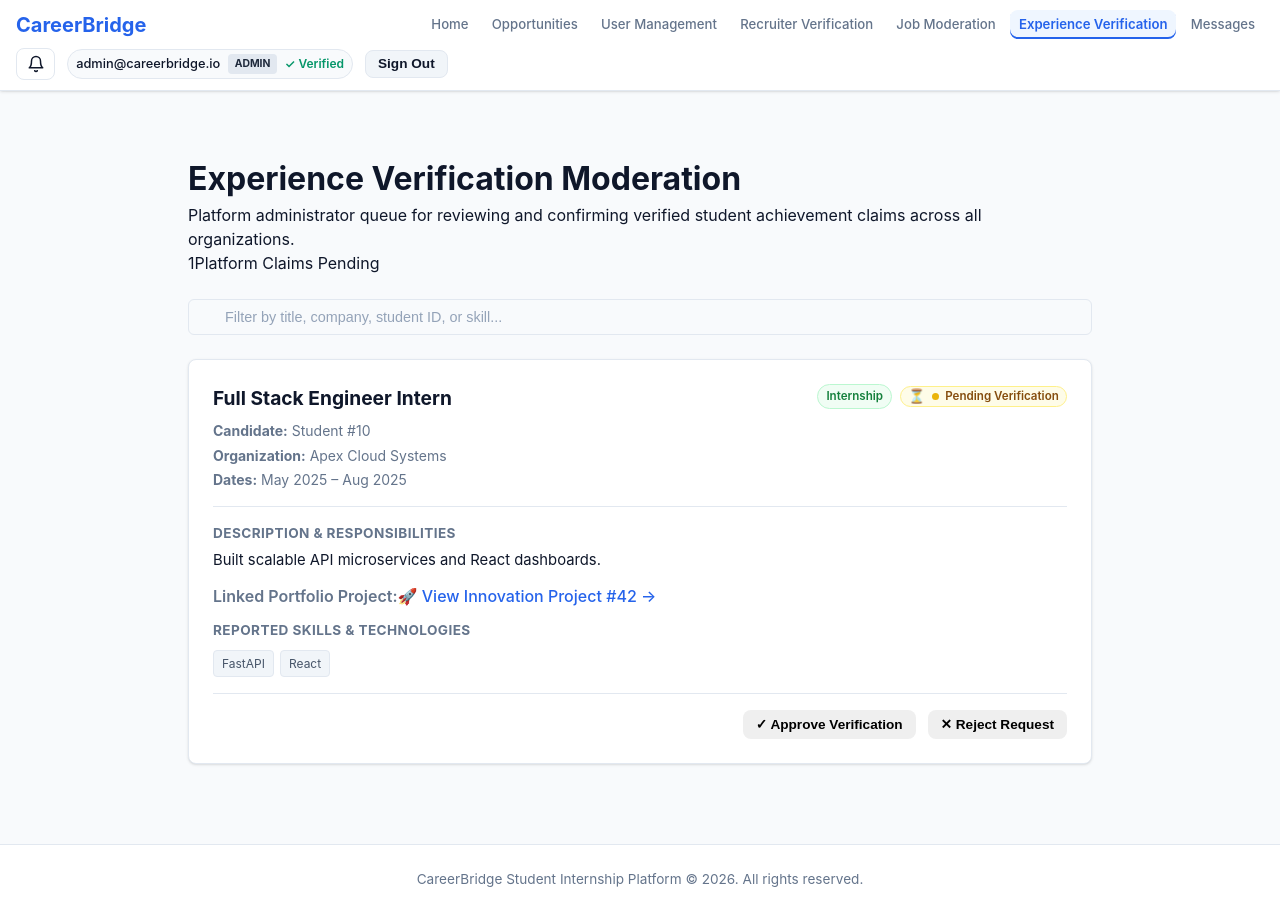
Scenario: Verified Experience Full End-to-End Integration Flow (Phase 5) › Flow 4: Platform Administrator Verification Queue › allows platform administrator to approve claims across organizations
Expected: the heading "Full Stack Engineer Intern" is shown, [213,384,452,412]
Expected: the heading "Experience Verification Moderation" is shown, [188,159,741,198]
Click the button with test id "approve-btn-404" at (829, 724), box [743,710,916,739]
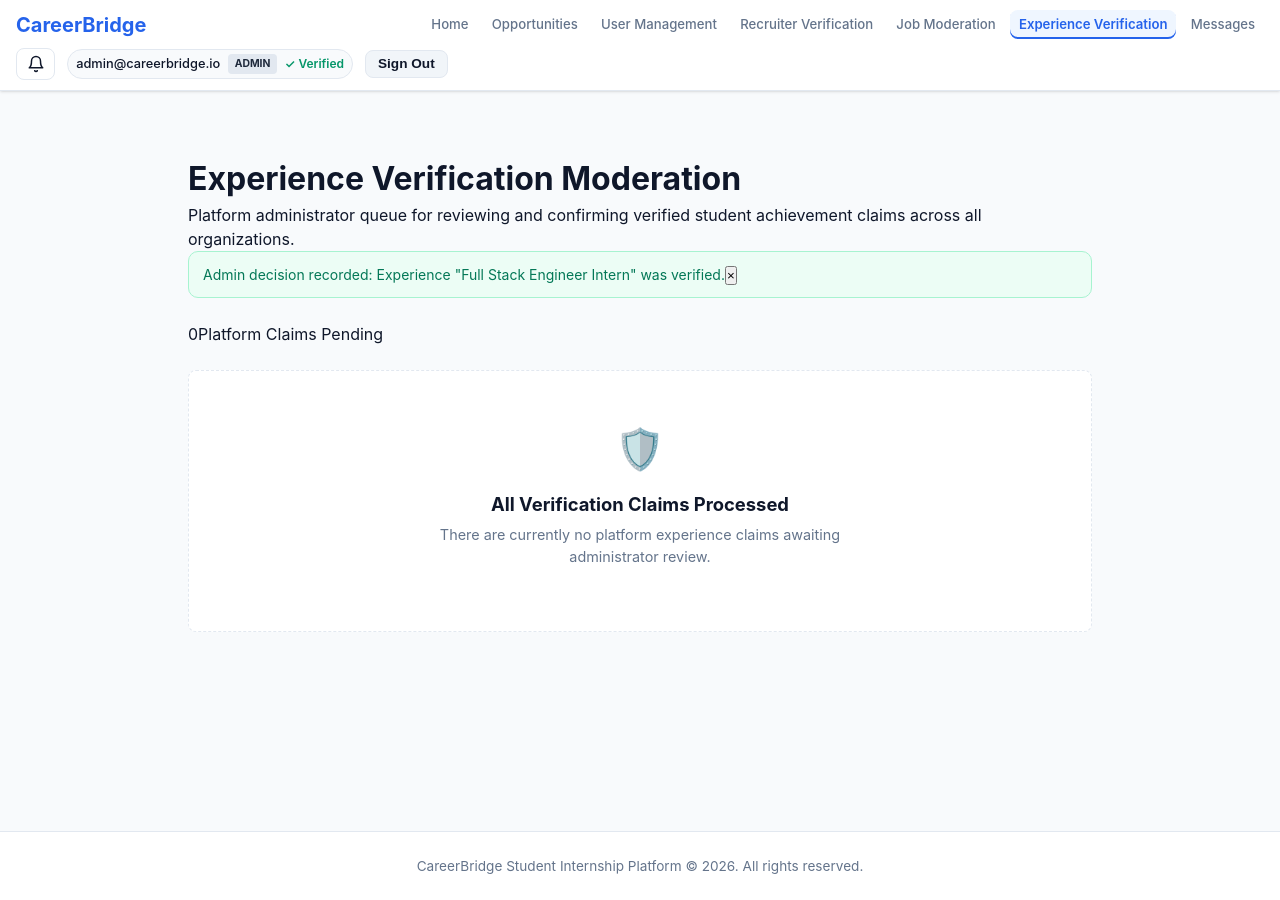
Expected: the text "Admin decision recorded: Experience \"Full Stack Engineer Intern\" was verified." is shown, [203,266,725,283]
